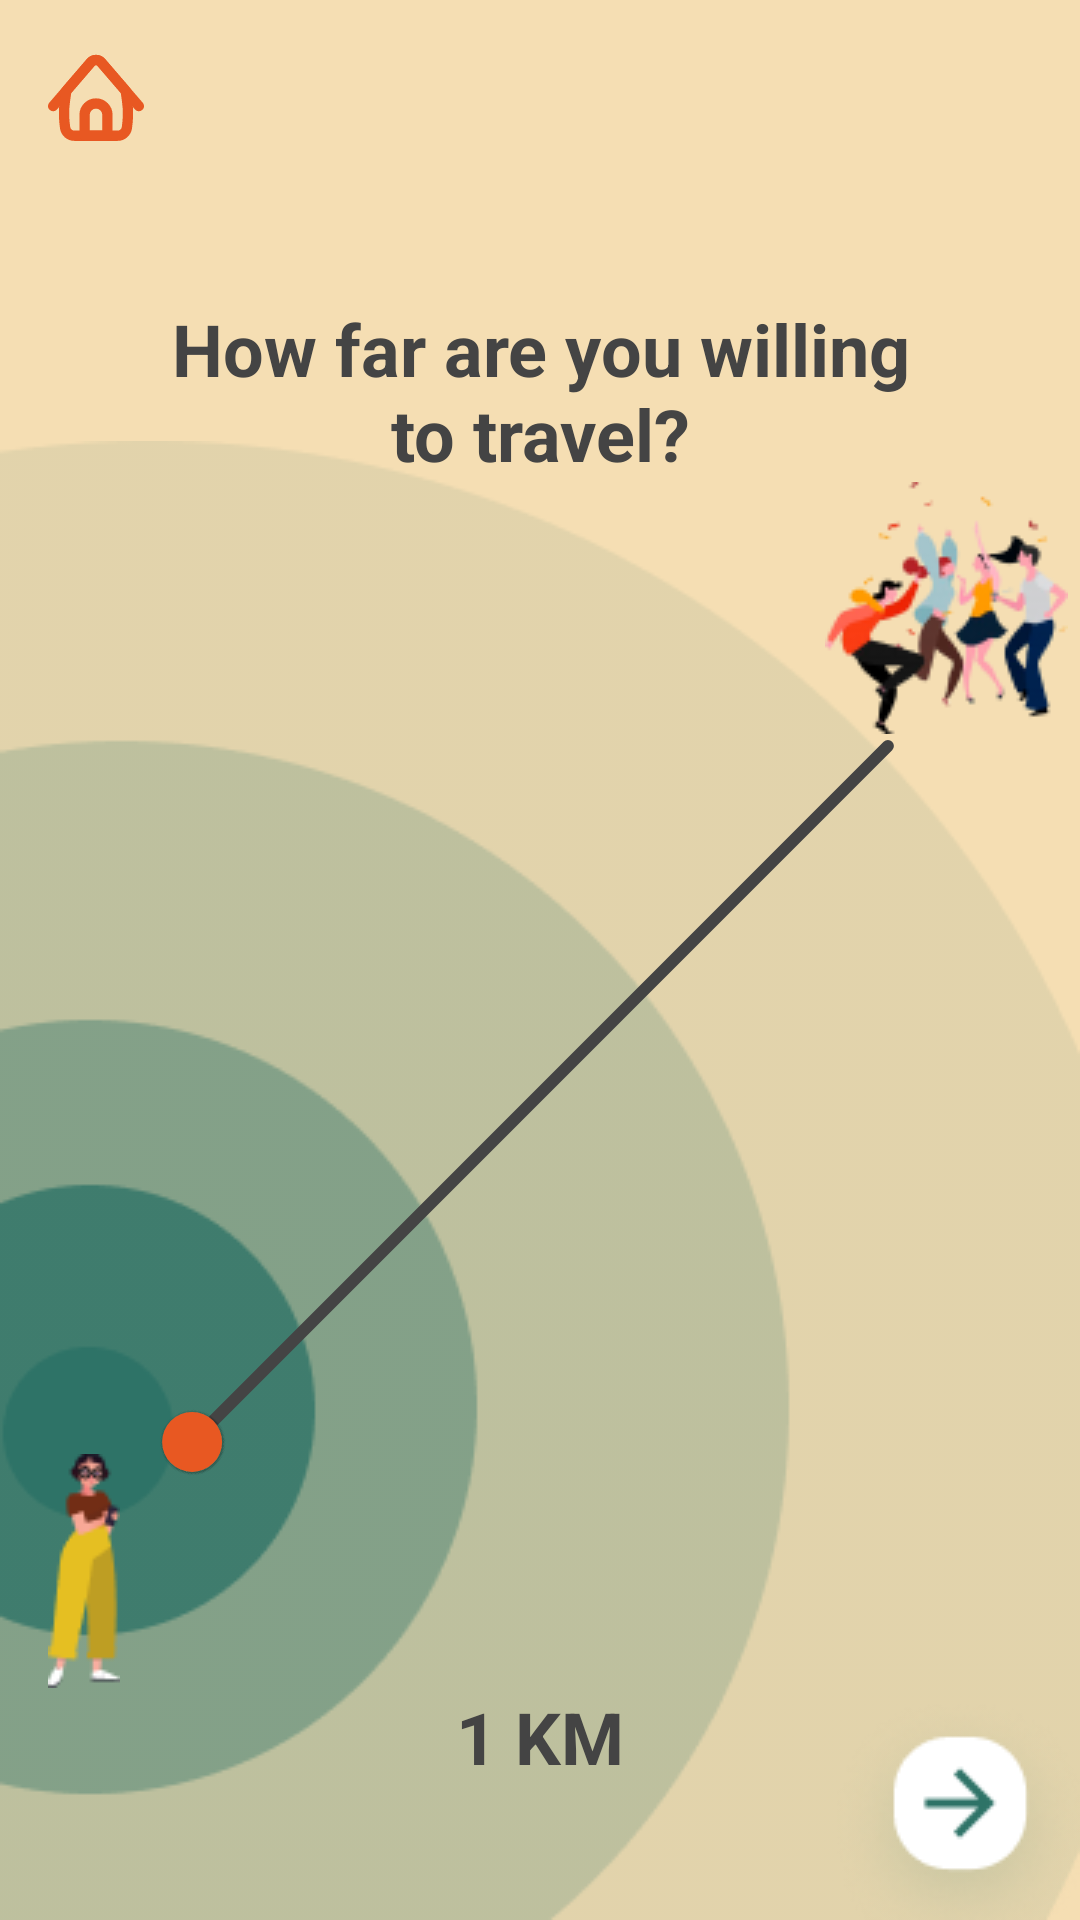

Icons on this 1080px x 1920px Android screen, each with the point to tap as [x,y]:
home: [96,97]
next: [960,1803]
user: [60,1571]
